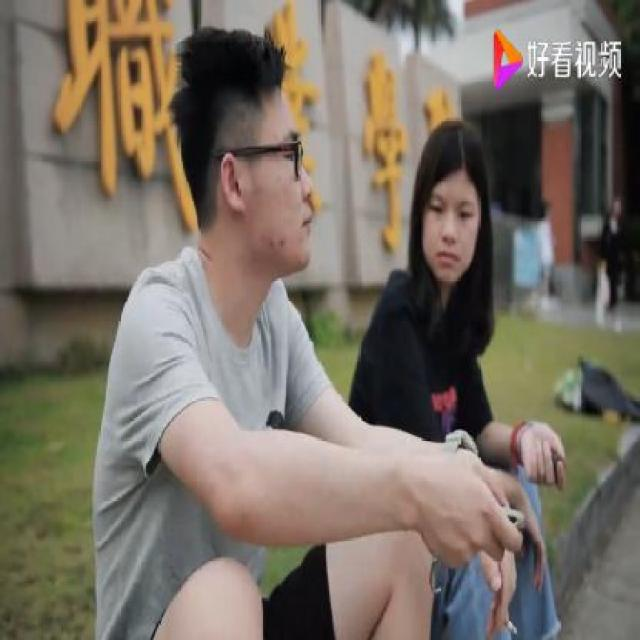cigarette: (484, 586, 522, 639)
